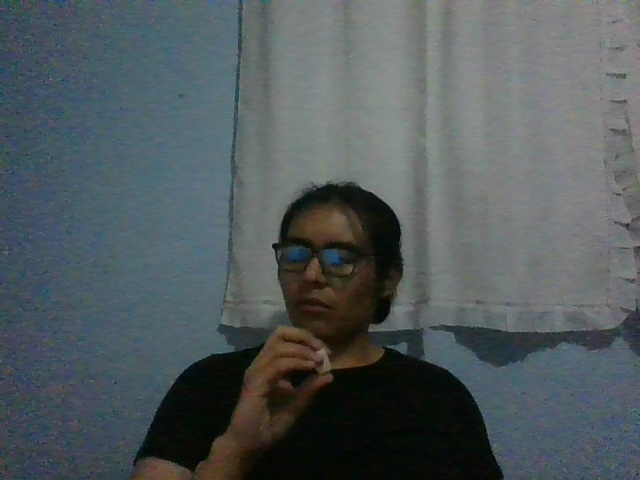goma: (313, 349, 332, 374)
